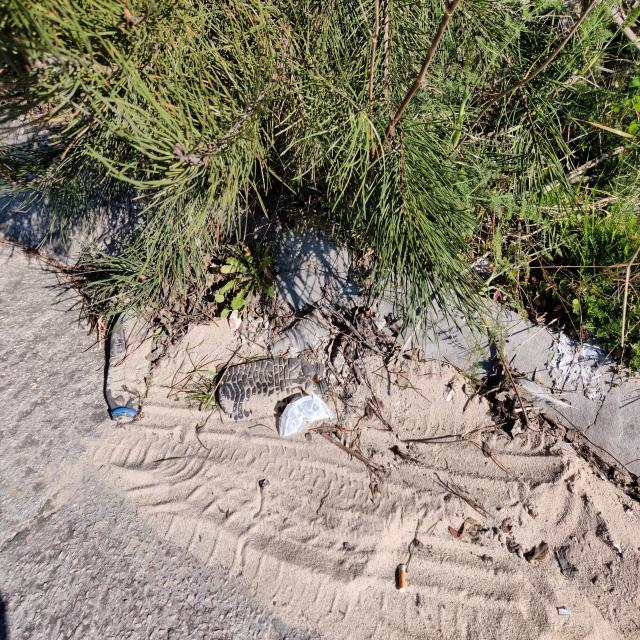litter: (211, 356, 333, 420), (103, 310, 156, 425), (279, 397, 334, 437), (397, 563, 407, 591)
